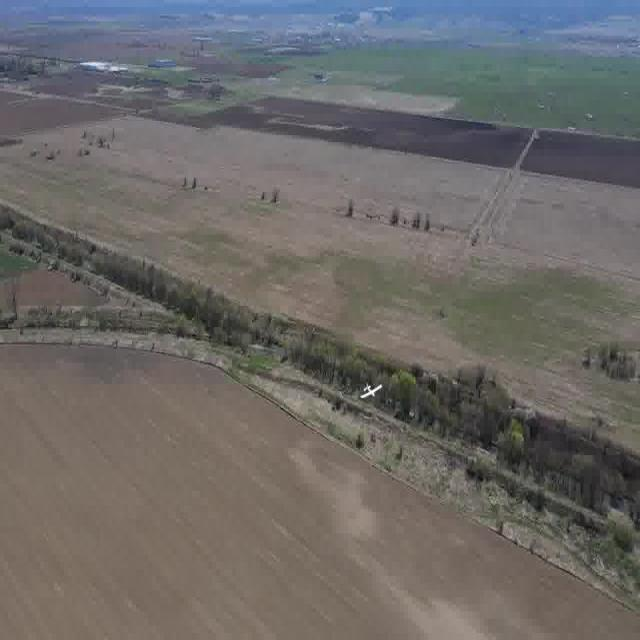iha: (358, 369, 384, 403)
